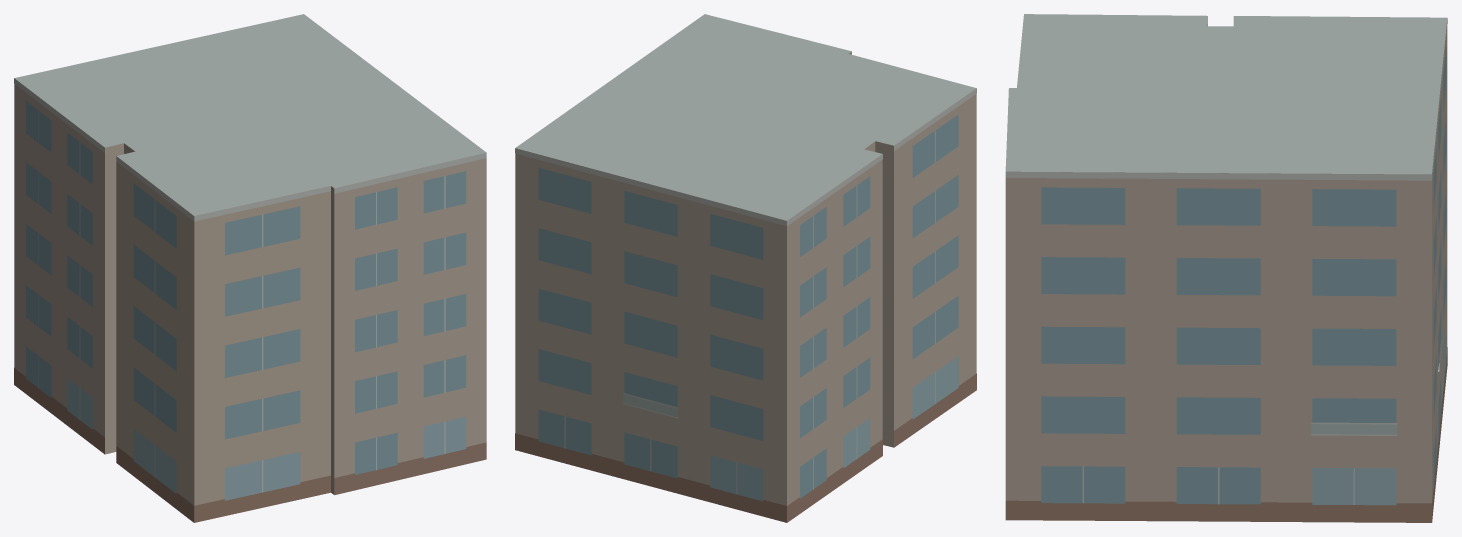
File: survey-upis-32878881.glb
3 renders of one model, left to right at view 1: azimuth 30°, elevation 25°; view 2: azimuth 150°, elevation 25°; view 3: azimuth 270°, elevation 25°, orthographic. The views are drawn at different scales.
Visible parts, largest first — view 1: survey-upis-32878881.tmp; view 2: survey-upis-32878881.tmp; view 3: survey-upis-32878881.tmp.
Boxes of the visible parts, x1=… form: survey-upis-32878881.tmp: x1=14, y1=14, x2=486, y2=522; survey-upis-32878881.tmp: x1=515, y1=14, x2=976, y2=522; survey-upis-32878881.tmp: x1=1005, y1=14, x2=1447, y2=522.
Bounding box in the file's own units: 13.55 × 13.7 × 15.75.
